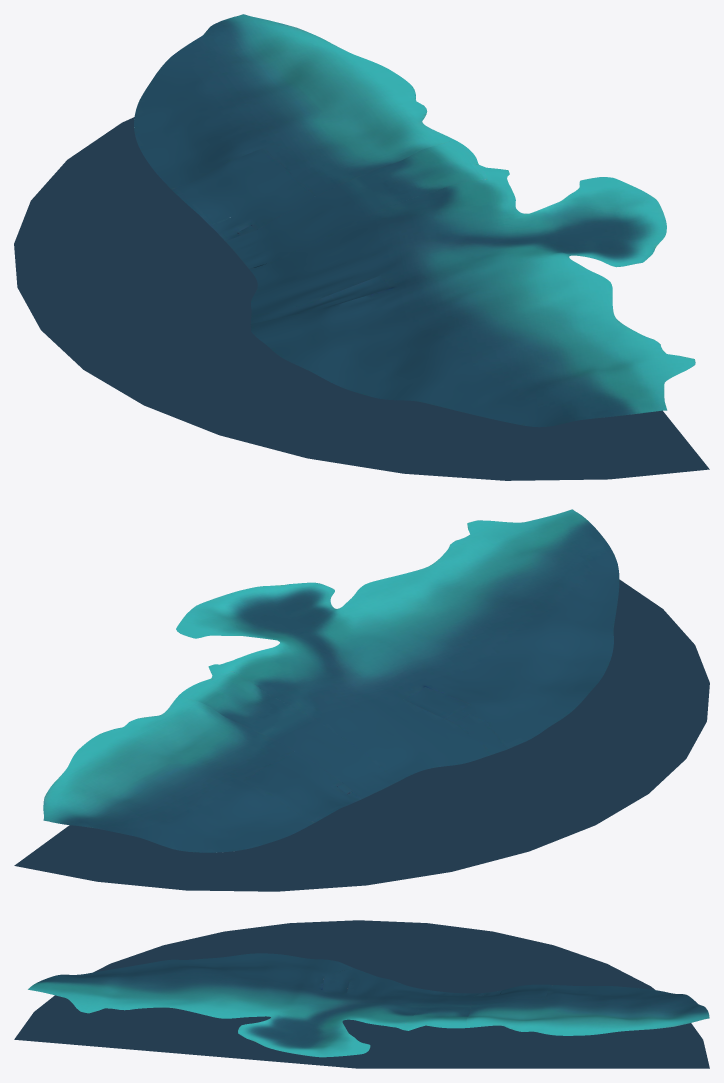
Rendered from Underwater-land-4.glb.
3 views of the same model, one above another, from view 1: azimuth 30°, elevation 25°; view 2: azimuth 150°, elevation 25°; view 3: azimuth 270°, elevation 25° (orthographic). The views are drawn at different scales.
Visible parts, largest first — view 1: Retopo_Sea Land 2.001, Circle.001; view 2: Retopo_Sea Land 2.001, Circle.001; view 3: Circle.001, Retopo_Sea Land 2.001.
Boxes of the visible parts, <box> form: Retopo_Sea Land 2.001: <box>134,14,695,427</box>; Circle.001: <box>14,117,709,480</box>; Retopo_Sea Land 2.001: <box>43,509,619,852</box>; Circle.001: <box>14,579,709,891</box>; Circle.001: <box>14,920,709,1068</box>; Retopo_Sea Land 2.001: <box>28,953,709,1057</box>.
Bounding box in the file's own units: 10490 × 1099 × 17472.
Materials: 2 (1 with a texture image).
